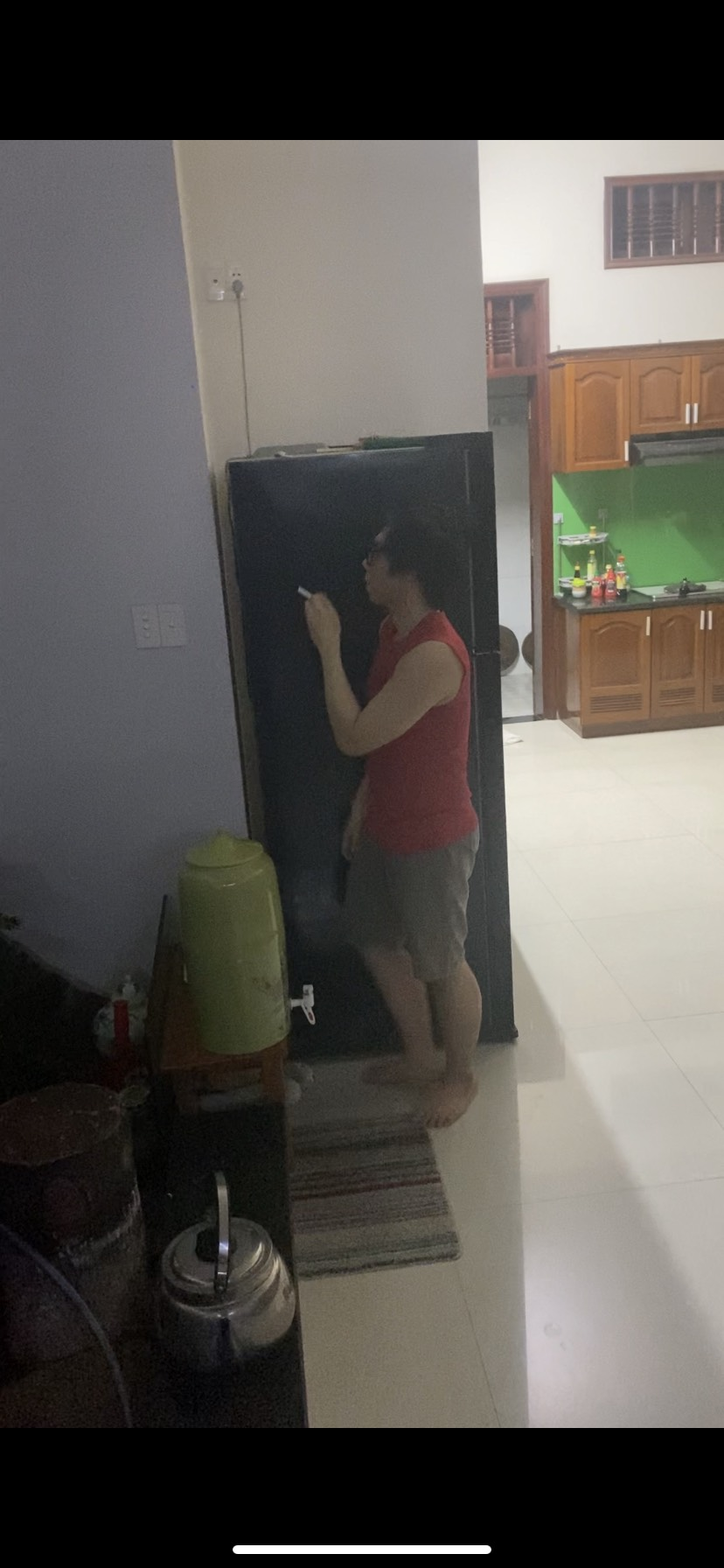cigarette: (291, 579, 314, 602)
person: (295, 483, 484, 1117)
